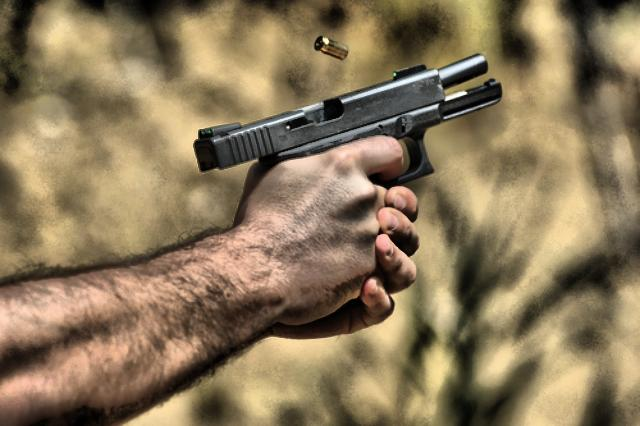pistol: (194, 50, 508, 324)
